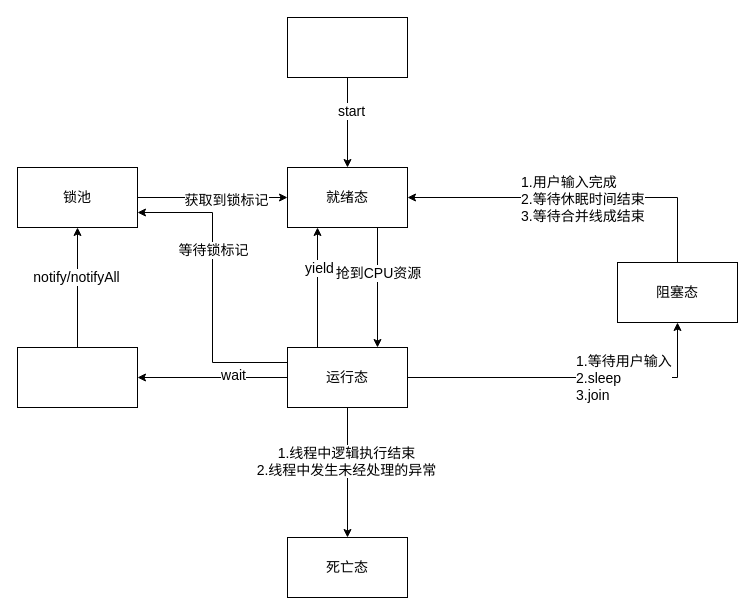
Image size: 755x615. Some labels were removed from this diagram. Here are the shapes that lost their labels. From the top down, the centre of each, then its label:
At (x=347, y=47): "新生态".
At (x=77, y=377): "等待队列".
